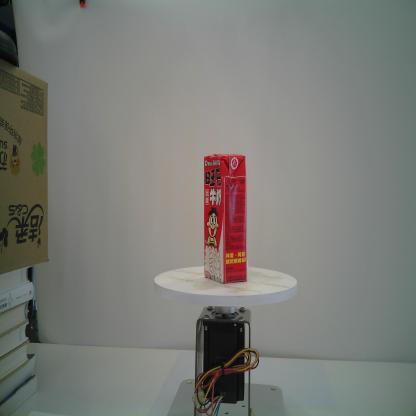Milk: (201, 151, 249, 286)
